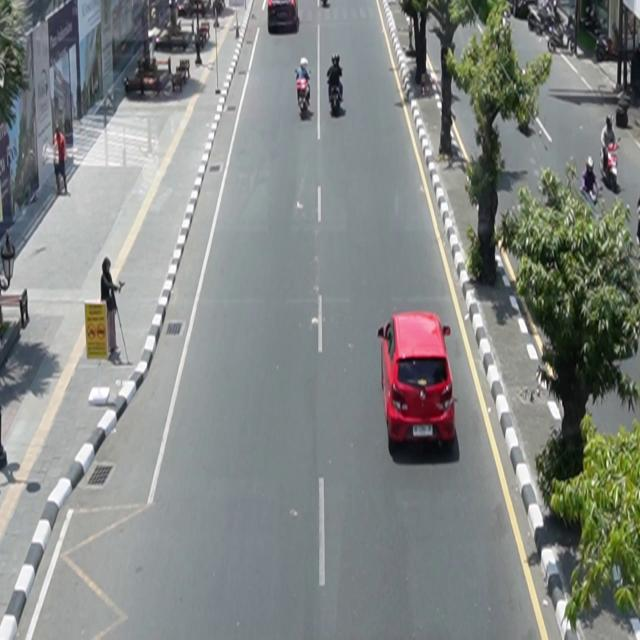car: (378, 311, 457, 452), (268, 1, 300, 35)
